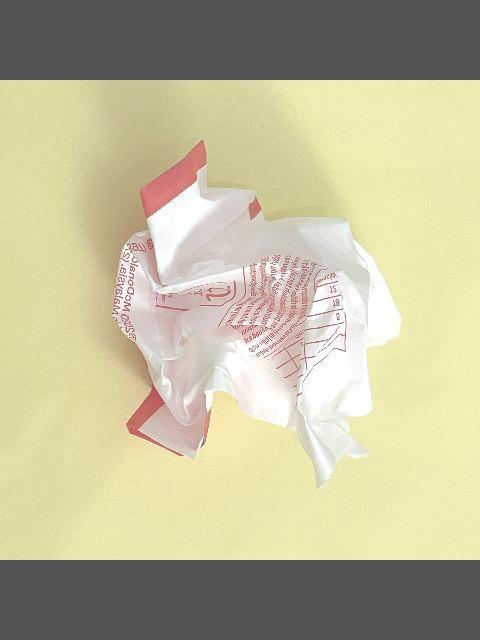paperbag: (107, 138, 401, 492)
